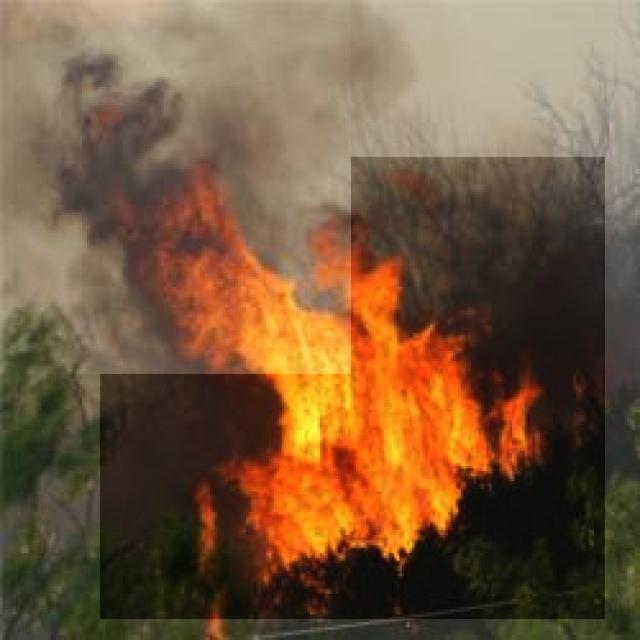Fire: (100, 157, 605, 619)
Smoke: (0, 0, 351, 374)
